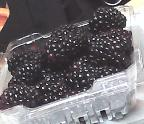berry: (46, 24, 87, 68), (88, 30, 133, 69), (89, 7, 127, 36), (33, 81, 76, 104), (7, 50, 46, 75), (1, 84, 30, 111), (86, 67, 120, 88), (9, 63, 39, 86), (40, 69, 67, 84), (64, 68, 87, 84), (71, 60, 97, 72)
